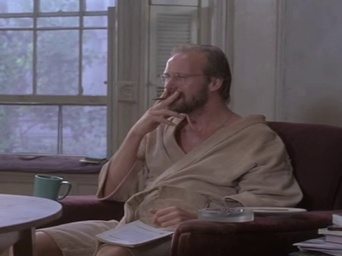smoke: (151, 95, 168, 100)
